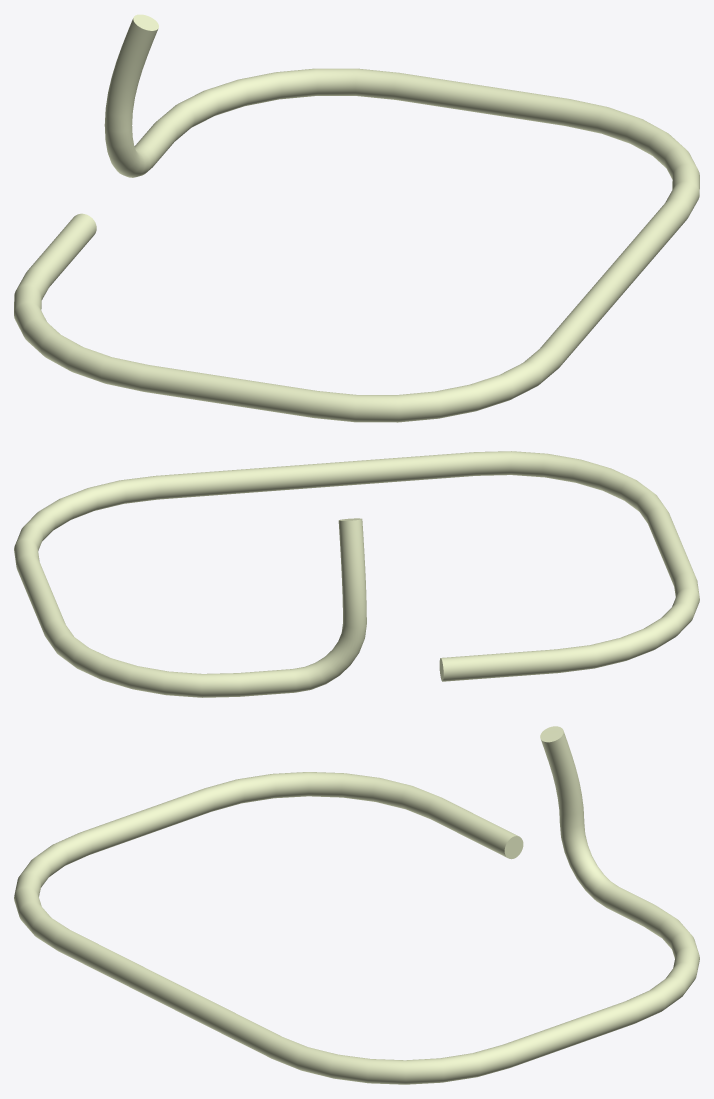
The model's file is tray.glb.
The picture shows the model from 3 angles, top to bottom: view 1: azimuth 30°, elevation 25°; view 2: azimuth 150°, elevation 25°; view 3: azimuth 270°, elevation 25°; orthographic projection. The views are drawn at different scales.
Parts seen in each view (by area): view 1: decorative_set_vol005_hamid_shk69.001; view 2: decorative_set_vol005_hamid_shk69.001; view 3: decorative_set_vol005_hamid_shk69.001.
Part boxes in pixels (x1=…): decorative_set_vol005_hamid_shk69.001: x1=14, y1=14, x2=699, y2=422; decorative_set_vol005_hamid_shk69.001: x1=14, y1=451, x2=699, y2=697; decorative_set_vol005_hamid_shk69.001: x1=14, y1=726, x2=699, y2=1084.
Bounding box in the file's own units: 2.99 × 0.7697 × 2.91.
